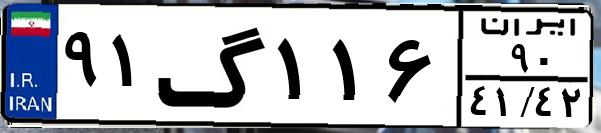0: (537, 27, 568, 80)
1: (270, 28, 330, 110), (330, 28, 385, 110), (110, 28, 156, 98), (495, 70, 520, 125)
2: (560, 70, 590, 125)
4: (470, 70, 495, 125), (535, 70, 560, 125)
6: (385, 28, 445, 110)
9: (57, 26, 110, 100), (508, 27, 537, 80)
گ: (156, 12, 270, 120)
